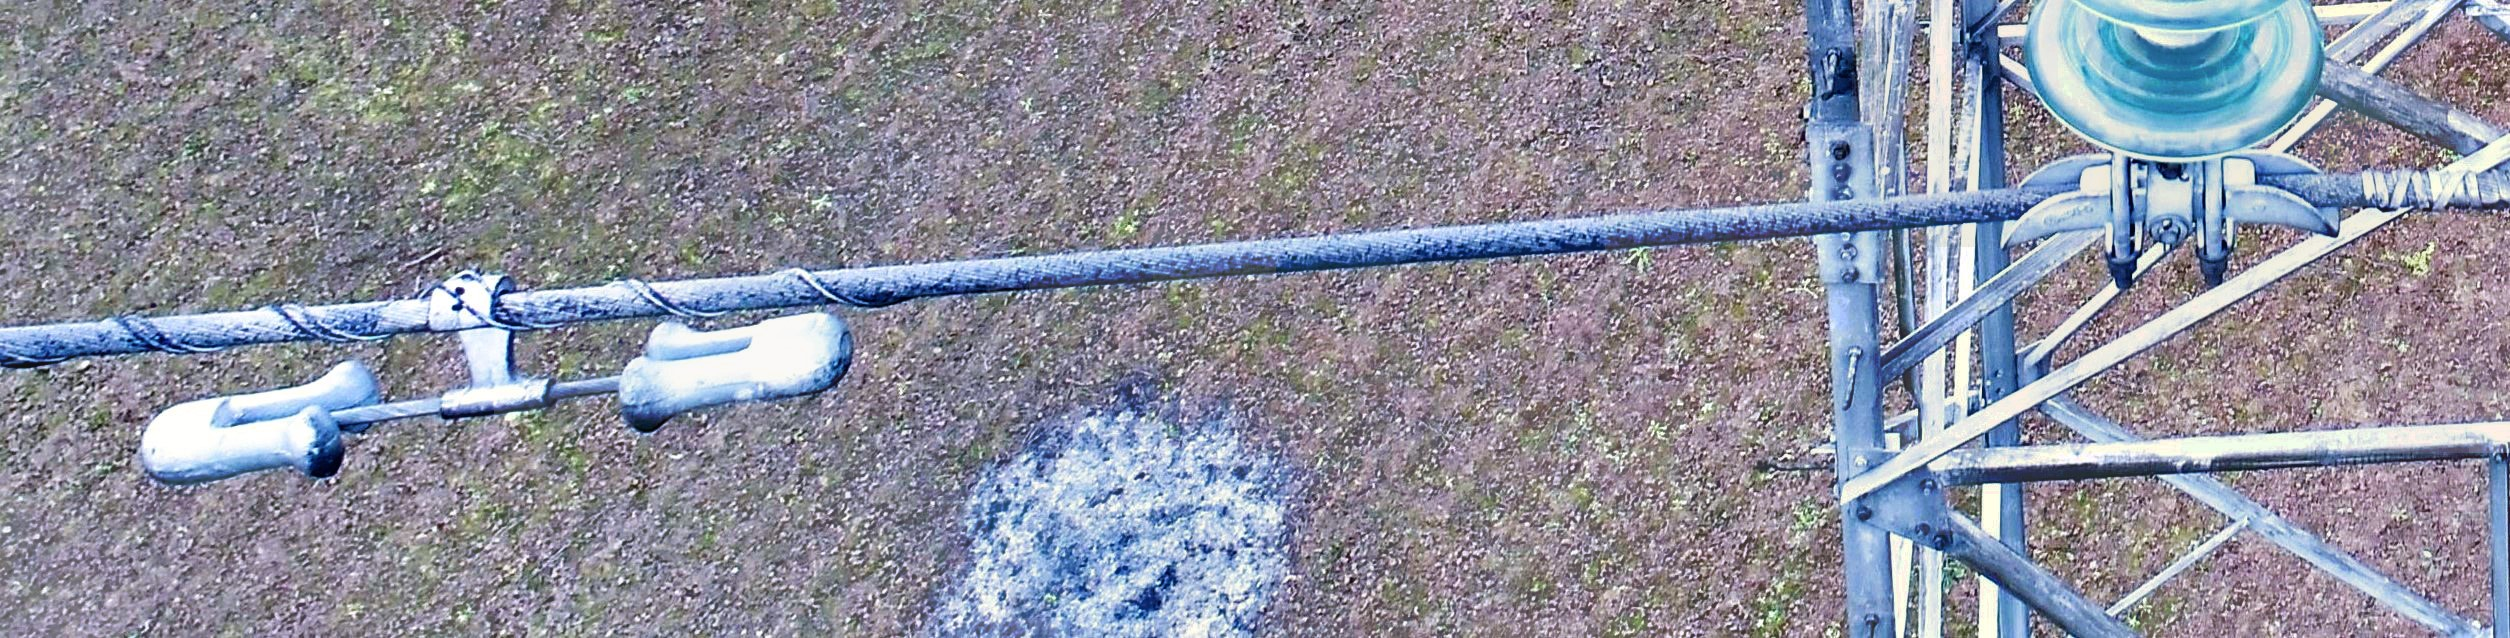Shockproof hammer: (125, 224, 872, 515)
